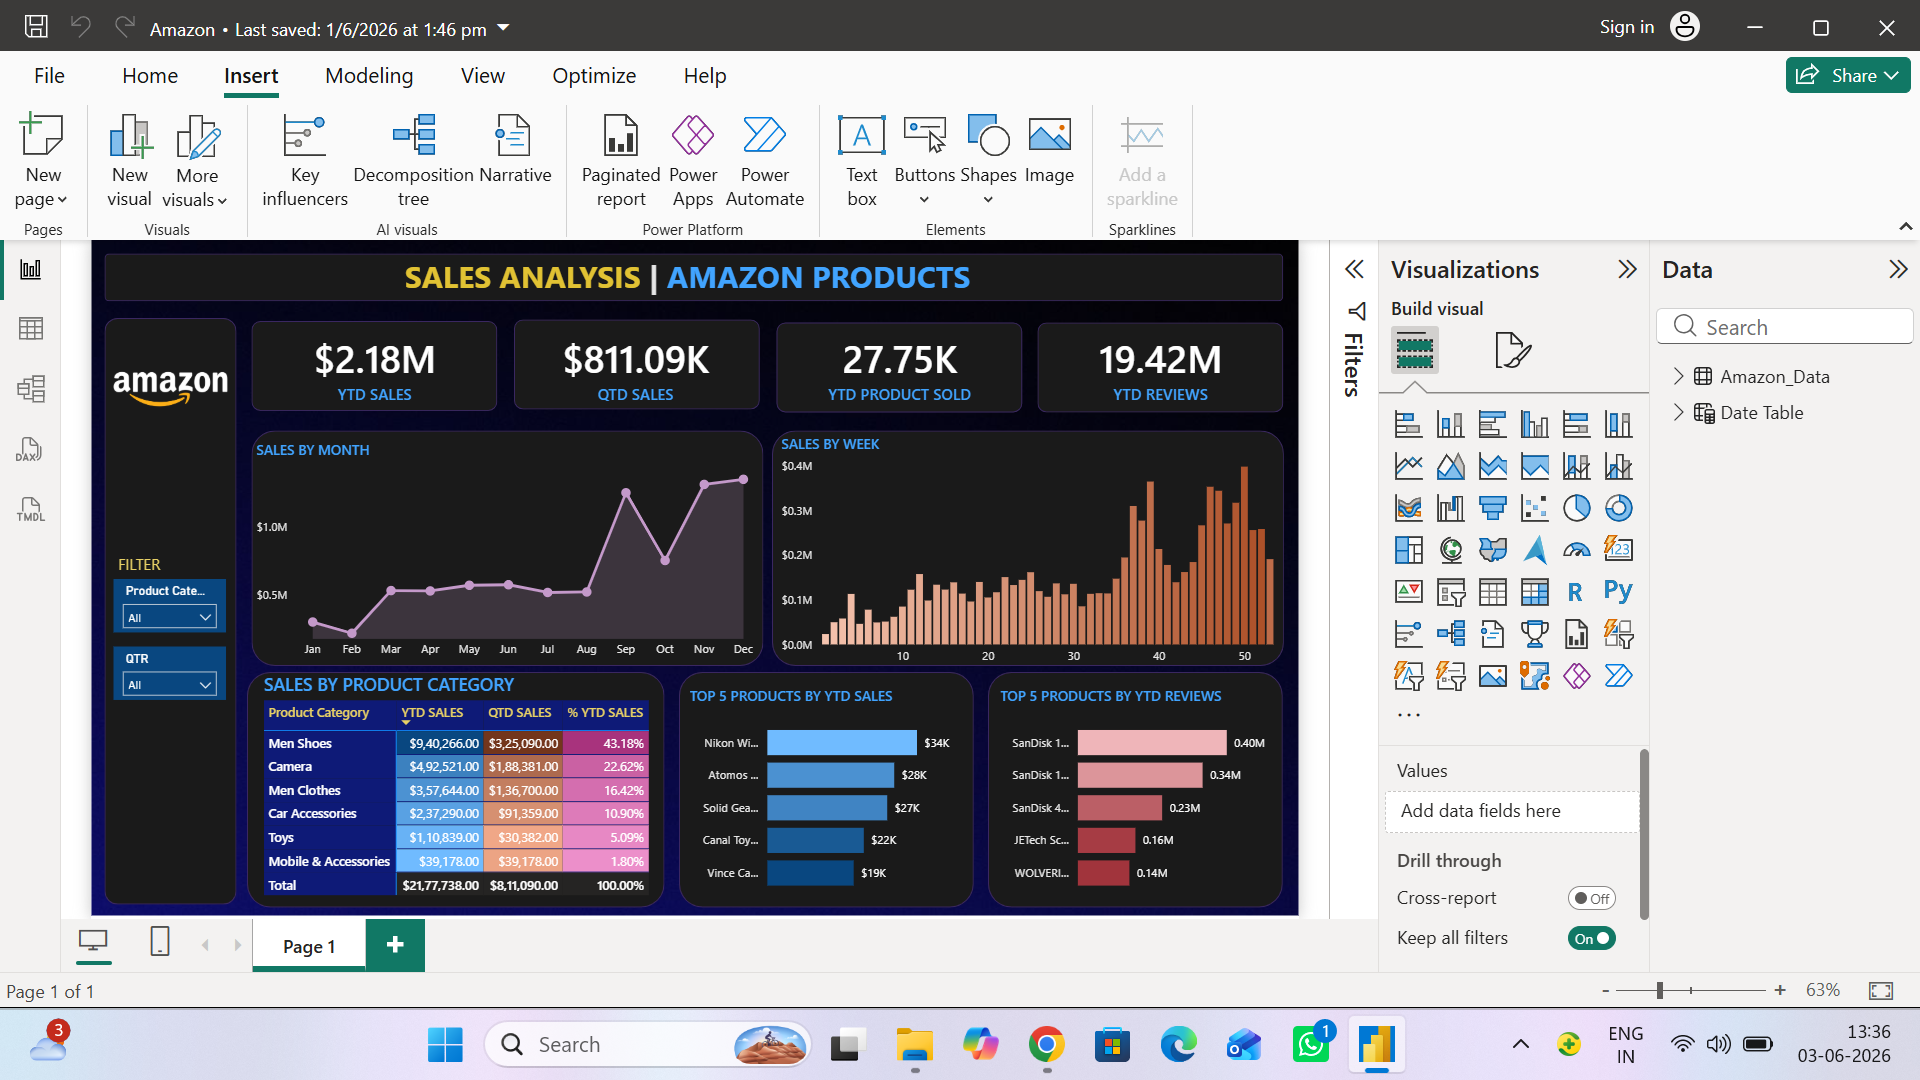

The page's visual inventory and layout, read from the dashboard file:
{"tool":"powerbi","page":{"name":"Page 1","canvas":[1280,720],"ordinal":0},"visuals":[{"type":"shape","box":[14.5,14.5,1249.9,50.7],"z":0},{"type":"textbox","box":[326.9,10.9,624.9,59.1],"z":1000},{"type":"shape","box":[14.5,82,139.9,622],"z":2000},{"type":"shape","box":[170.1,201.5,542.9,249.7],"z":3000},{"type":"shape","box":[170.1,85.7,260.6,95.3],"z":4000},{"type":"card","fields":{"Values":["Amazon_Data.YTD SALES"]},"box":[170.1,88.1,260.6,95.3],"z":5000},{"type":"shape","box":[448,84.5,260.6,95.3],"z":6000},{"type":"card","fields":{"Values":["Amazon_Data.QTD SALES"]},"box":[447.6,88.1,260.6,95.3],"z":7000},{"type":"shape","box":[726.3,86.9,260.6,95.3],"z":8000},{"type":"shape","box":[1003.8,86.9,260.6,95.3],"z":9000},{"type":"card","fields":{"Values":["Amazon_Data.YTD PRODUCT SOLD"]},"box":[726.3,86.9,260.6,95.3],"z":10000},{"type":"card","fields":{"Values":["Amazon_Data.YTD REVIEWS"]},"box":[1003.8,86.9,260.6,95.3],"z":11000},{"type":"areaChart","title":"   SALES BY MONTH","fields":{"Category":["Date Table.Month Name"],"Y":["Sum(Amazon_Data.Price(Dollar))"]},"box":[170.1,211.1,542.9,240.1],"z":12000},{"type":"shape","box":[721.5,201.5,542.9,249.7],"z":13000},{"type":"columnChart","title":"SALES BY WEEK","fields":{"Category":["Date Table.WEEK"],"Y":["Sum(Amazon_Data.Price(Dollar))"]},"box":[726.3,205.1,553.8,253.4],"z":14000},{"type":"shape","box":[165.3,458.4,442.8,249.7],"z":15000},{"type":"pivotTable","title":"SALES BY PRODUCT CATEGORY ","fields":{"Values":["Amazon_Data.YTD SALES1","Amazon_Data.QTD SALES","Amazon_Data.YTD SALES"],"Rows":["Amazon_Data.Product Category"]},"box":[178.6,458.4,437.9,249.7],"z":16000},{"type":"shape","box":[623.7,458.4,312.5,249.7],"z":17000},{"type":"shape","box":[951.9,458.4,312.5,249.7],"z":18000},{"type":"clusteredBarChart","title":"TOP 5 PRODUCTS BY YTD SALES","fields":{"Category":["Amazon_Data.Product Description"],"Y":["Amazon_Data.YTD SALES"]},"box":[629.8,472.9,296.8,231.6],"z":19000},{"type":"clusteredBarChart","title":"TOP 5 PRODUCTS BY YTD REVIEWS","fields":{"Category":["Amazon_Data.Product Description"],"Y":["Amazon_Data.YTD REVIEWS"]},"box":[959.1,472.9,296.8,231.6],"z":20000},{"type":"slicer","fields":{"Values":["Amazon_Data.Product Category"]},"box":[24.1,359.5,119.4,56.7],"z":21000},{"type":"slicer","fields":{"Values":["Date Table.QTR"]},"box":[24.1,430.7,119.4,56.7],"z":22000},{"type":"image","box":[14.5,88.1,139.9,141.2],"z":23000},{"type":"textbox","box":[24.1,326.9,65.1,31.4],"z":24000}]}

Visuals, with their boxes on the page's 1280x720 design canvas (x1, y1, x2, y2). These are canvas units, not pixel positions in the 1920x1080 screenshot, which may show the page scaled, cropped or inside an application window:
shape: <region>14, 14, 1264, 65</region>
textbox: <region>327, 11, 952, 70</region>
shape: <region>14, 82, 154, 704</region>
shape: <region>170, 202, 713, 451</region>
shape: <region>170, 86, 431, 181</region>
card - Amazon_Data.YTD SALES: <region>170, 88, 431, 183</region>
shape: <region>448, 84, 709, 180</region>
card - Amazon_Data.QTD SALES: <region>448, 88, 708, 183</region>
shape: <region>726, 87, 987, 182</region>
shape: <region>1004, 87, 1264, 182</region>
card - Amazon_Data.YTD PRODUCT SOLD: <region>726, 87, 987, 182</region>
card - Amazon_Data.YTD REVIEWS: <region>1004, 87, 1264, 182</region>
"   SALES BY MONTH" areaChart: <region>170, 211, 713, 451</region>
shape: <region>722, 202, 1264, 451</region>
"SALES BY WEEK" columnChart: <region>726, 205, 1280, 458</region>
shape: <region>165, 458, 608, 708</region>
"SALES BY PRODUCT CATEGORY " pivotTable: <region>179, 458, 616, 708</region>
shape: <region>624, 458, 936, 708</region>
shape: <region>952, 458, 1264, 708</region>
"TOP 5 PRODUCTS BY YTD SALES" clusteredBarChart: <region>630, 473, 927, 704</region>
"TOP 5 PRODUCTS BY YTD REVIEWS" clusteredBarChart: <region>959, 473, 1256, 704</region>
slicer - Amazon_Data.Product Category: <region>24, 360, 144, 416</region>
slicer - Date Table.QTR: <region>24, 431, 144, 487</region>
image: <region>14, 88, 154, 229</region>
textbox: <region>24, 327, 89, 358</region>
